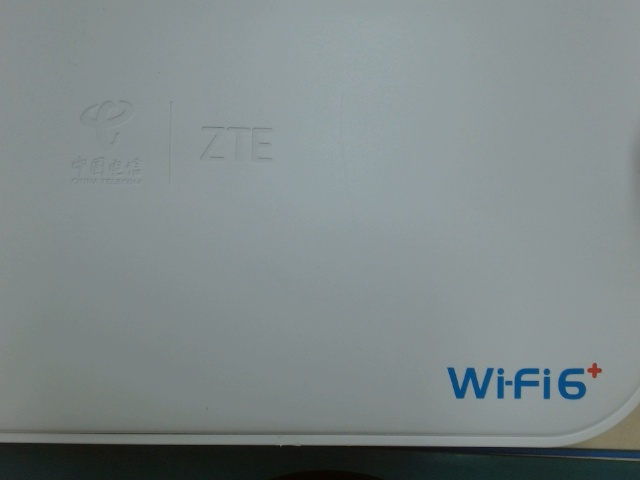AJ_ZTEWIFI6Plus: (437, 354, 606, 409)
